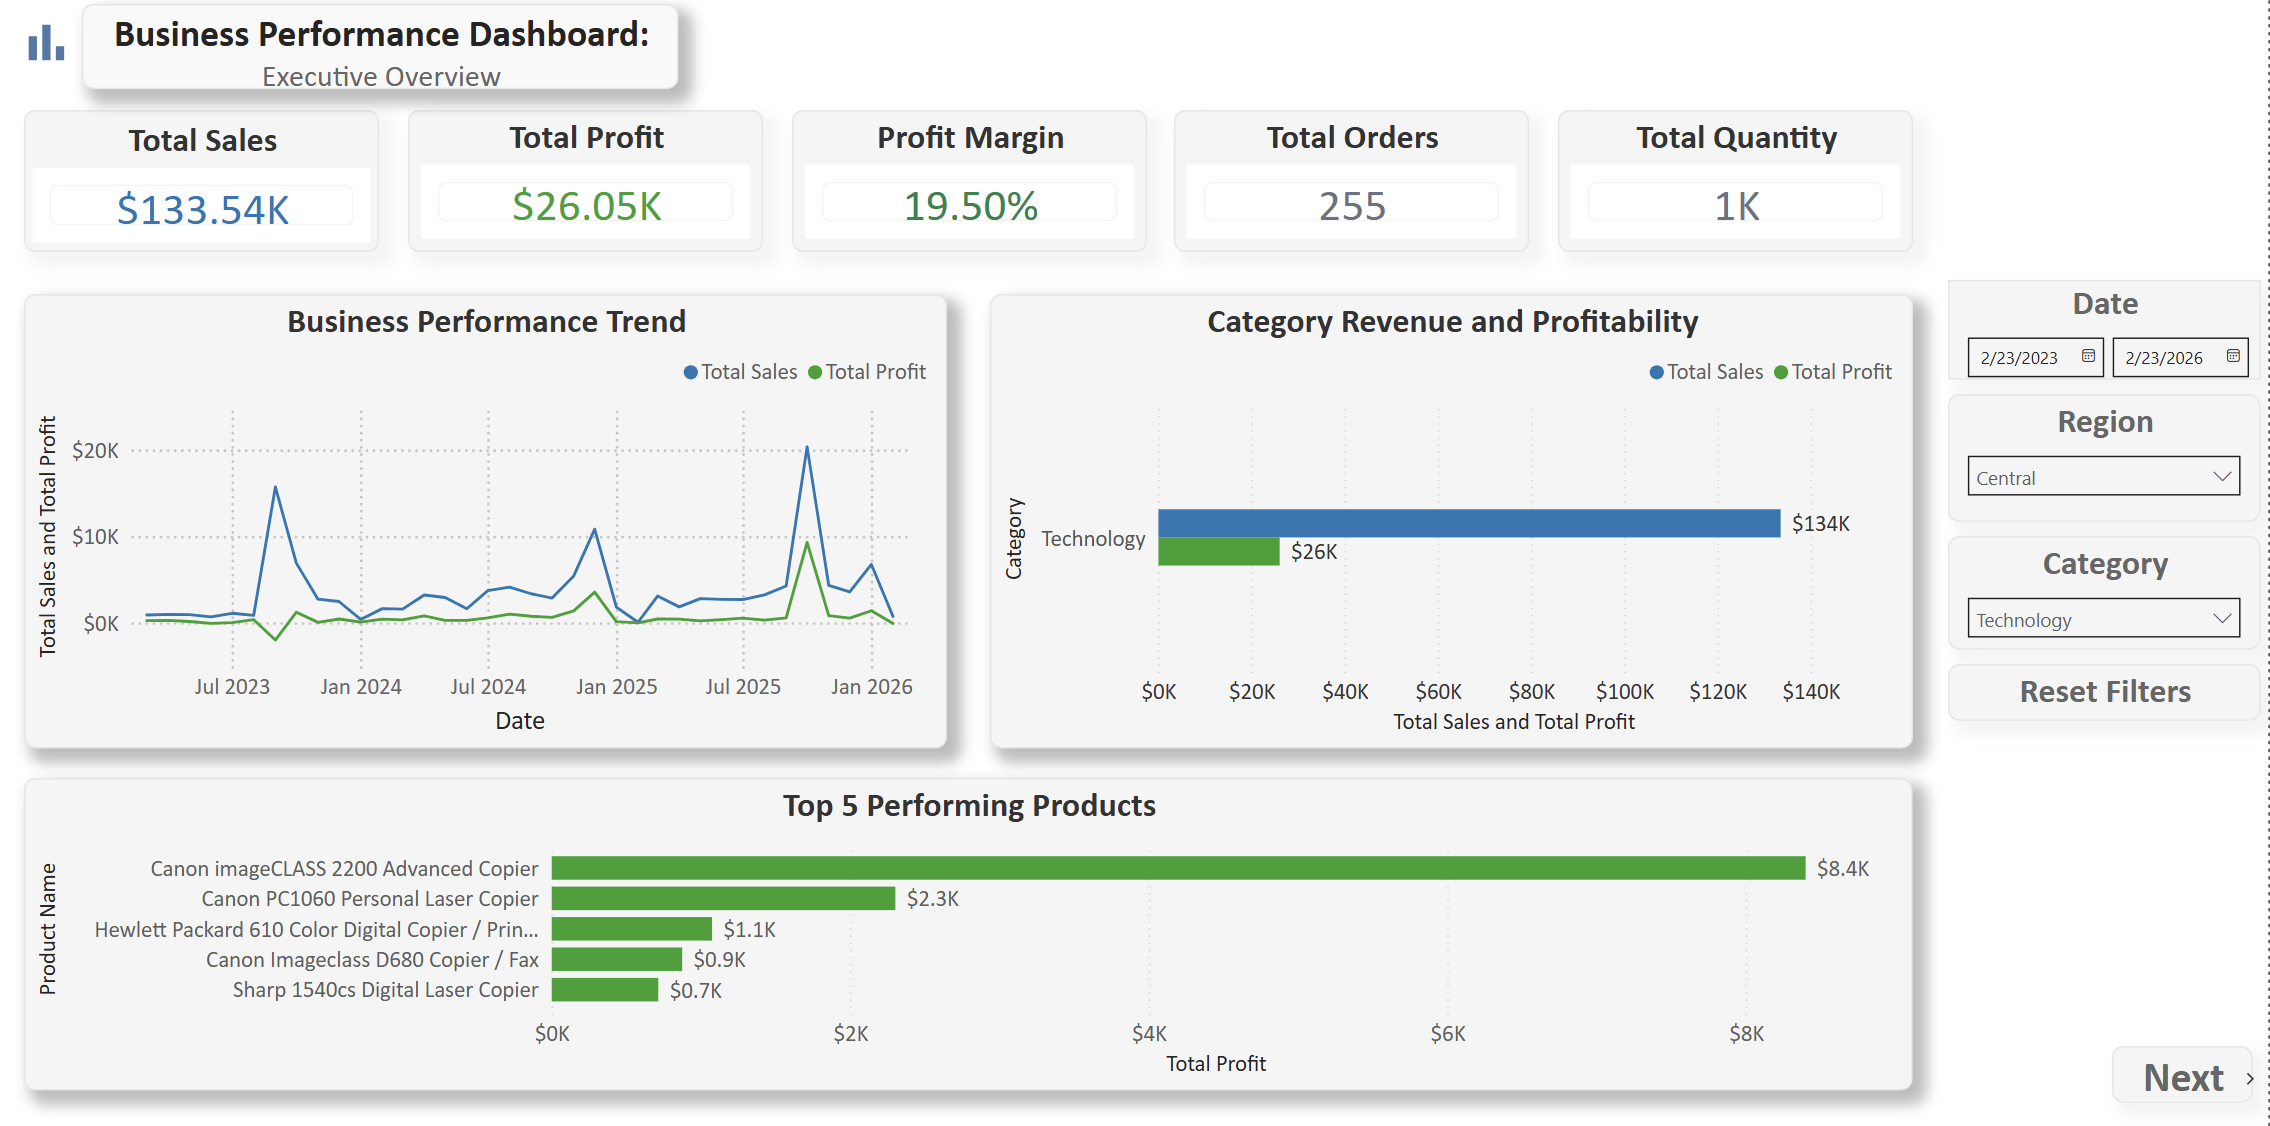

Layout of this report page (visuals, bound fields, positions):
{"tool":"powerbi","page":{"name":"Executive Overview","canvas":[1600,800],"ordinal":0},"visuals":[{"type":"cardVisual","title":"Total Sales","fields":{"Data":["samplesuperstore.Total Sales"]},"box":[20,80,250,100],"z":0},{"type":"cardVisual","title":"Total Profit","fields":{"Data":["samplesuperstore.Total Profit"]},"box":[290,80,250,100],"z":1000},{"type":"cardVisual","title":"Profit Margin","fields":{"Data":["samplesuperstore.Profit Margin"]},"box":[560,80,250,100],"z":2000},{"type":"cardVisual","title":"Total Orders","fields":{"Data":["samplesuperstore.Total Orders"]},"box":[830,80,250,100],"z":3000},{"type":"cardVisual","title":"Total Quantity","fields":{"Data":["samplesuperstore.Total Quantity"]},"box":[1100,80,250,100],"z":4000},{"type":"lineChart","title":"Business Performance Trend","fields":{"Y":["samplesuperstore.Total Sales","samplesuperstore.Total Profit"],"Category":["samplesuperstore.Order Date.Variation.Date Hierarchy.Year","samplesuperstore.Order Date.Variation.Date Hierarchy.Month"]},"box":[20,210,650,320],"z":5000},{"type":"clusteredBarChart","title":"Category Revenue and Profitability","fields":{"Category":["samplesuperstore.Category"],"Y":["samplesuperstore.Total Sales","samplesuperstore.Total Profit"]},"box":[700,210,650,320],"z":6000},{"type":"slicer","title":"Date","fields":{"Values":["samplesuperstore.Order Date"]},"box":[1375,200,220,70],"z":7000},{"type":"slicer","title":"Region","fields":{"Values":["samplesuperstore.Region"]},"box":[1375,280,220,90],"z":8000},{"type":"slicer","title":"Category","fields":{"Values":["samplesuperstore.Category"]},"box":[1375,380,220,80],"z":9000},{"type":"textbox","title":"Business Performance Dashboard:","box":[60,5,420,60],"z":10000},{"type":"actionButton","title":"Reset Filters","box":[1375,470,220,40],"z":11000},{"type":"clusteredBarChart","title":"Top 5 Performing Products","fields":{"Category":["samplesuperstore.Product Name"],"Y":["samplesuperstore.Total Profit"]},"box":[20,550,1330,220],"z":12000},{"type":"actionButton","title":"Next","box":[1490,740,99,40],"z":13000},{"type":"image","box":[15,12,40,40],"z":14000},{"type":"image","box":[1579,753,18,18],"z":15000}]}

Visuals, with their boxes in screenshot pixels (x1, y1, x2, y2), scaled from the page's 1600x800 canvas onto the 2270x1126 screenshot:
"Total Sales" cardVisual: [left=28, top=113, right=383, bottom=253]
"Total Profit" cardVisual: [left=411, top=113, right=766, bottom=253]
"Profit Margin" cardVisual: [left=794, top=113, right=1149, bottom=253]
"Total Orders" cardVisual: [left=1178, top=113, right=1532, bottom=253]
"Total Quantity" cardVisual: [left=1561, top=113, right=1915, bottom=253]
"Business Performance Trend" lineChart: [left=28, top=296, right=951, bottom=746]
"Category Revenue and Profitability" clusteredBarChart: [left=993, top=296, right=1915, bottom=746]
"Date" slicer: [left=1951, top=282, right=2263, bottom=380]
"Region" slicer: [left=1951, top=394, right=2263, bottom=521]
"Category" slicer: [left=1951, top=535, right=2263, bottom=647]
"Business Performance Dashboard:" textbox: [left=85, top=7, right=681, bottom=91]
"Reset Filters" actionButton: [left=1951, top=662, right=2263, bottom=718]
"Top 5 Performing Products" clusteredBarChart: [left=28, top=774, right=1915, bottom=1084]
"Next" actionButton: [left=2114, top=1042, right=2254, bottom=1098]
image: [left=21, top=17, right=78, bottom=73]
image: [left=2240, top=1060, right=2266, bottom=1085]
